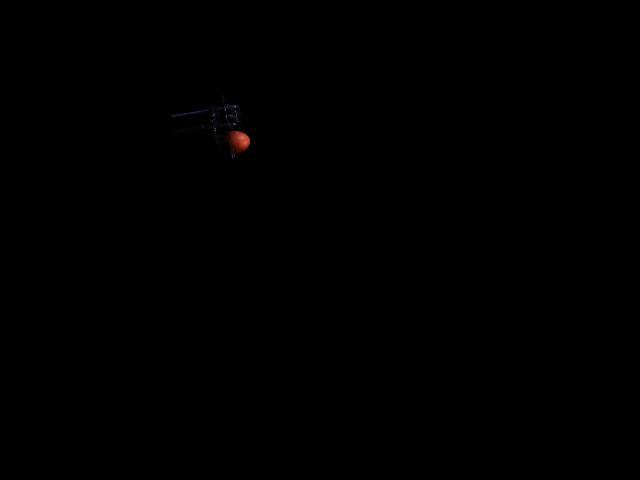egg: (216, 128, 251, 157)
